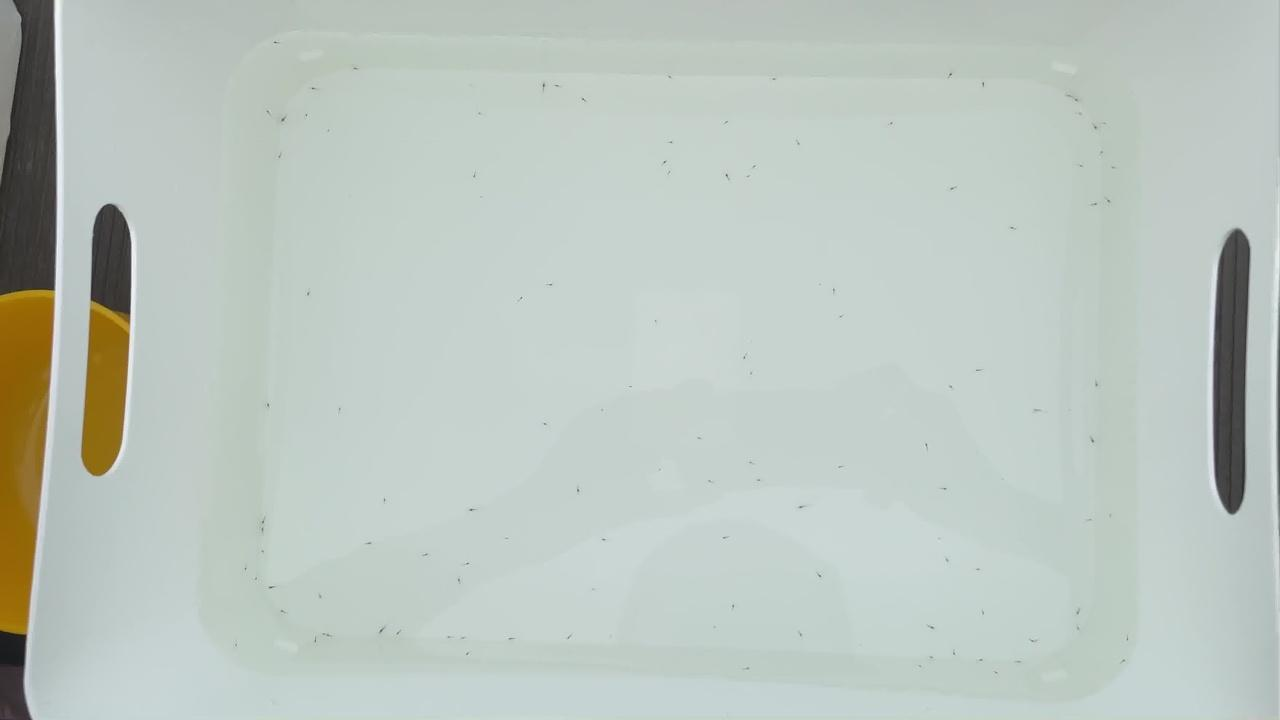shrimp: (269, 39, 281, 47), (261, 107, 273, 115), (279, 117, 291, 125), (274, 152, 286, 160), (300, 111, 312, 119), (324, 130, 336, 138), (308, 84, 320, 92), (350, 65, 362, 73), (476, 109, 488, 117), (470, 175, 482, 183), (538, 81, 550, 89), (550, 82, 562, 90), (578, 97, 590, 105), (664, 74, 676, 82), (768, 77, 780, 85), (792, 139, 804, 147), (749, 163, 761, 171), (744, 175, 756, 183), (720, 172, 732, 180), (718, 120, 730, 128), (666, 140, 678, 148), (661, 159, 673, 167), (665, 172, 677, 180), (547, 281, 559, 289), (515, 296, 527, 304), (301, 291, 313, 299), (649, 319, 661, 327), (747, 372, 759, 380), (738, 355, 750, 363), (837, 314, 849, 322), (827, 287, 839, 295), (1007, 225, 1019, 233), (1090, 203, 1102, 211), (1102, 197, 1114, 205), (1108, 165, 1120, 173), (1097, 147, 1109, 155), (1090, 123, 1102, 131), (1101, 119, 1113, 127), (1075, 165, 1087, 173), (1073, 111, 1085, 119), (1070, 97, 1082, 105), (1062, 92, 1074, 100), (978, 82, 990, 90), (947, 72, 959, 80), (887, 119, 899, 127), (948, 186, 960, 194), (974, 367, 986, 375), (1030, 406, 1042, 414), (1092, 379, 1104, 387), (1088, 436, 1100, 444), (945, 383, 957, 391), (921, 444, 933, 452), (1105, 516, 1117, 524), (1084, 519, 1096, 527), (1072, 609, 1084, 617), (1071, 624, 1083, 632), (1118, 656, 1130, 664), (1125, 636, 1137, 644), (1013, 659, 1025, 667), (1028, 637, 1040, 645), (992, 670, 1004, 678), (975, 657, 987, 665), (977, 608, 989, 616), (972, 564, 984, 572), (943, 558, 955, 566), (939, 485, 951, 493), (925, 625, 937, 633), (949, 651, 961, 659), (925, 655, 937, 663), (915, 665, 927, 673), (794, 631, 806, 639), (814, 572, 826, 580), (794, 504, 806, 512), (836, 463, 848, 471), (753, 478, 765, 486), (747, 459, 759, 467), (694, 435, 706, 443), (706, 477, 718, 485), (720, 534, 732, 542), (730, 603, 742, 611), (740, 667, 752, 675), (711, 623, 723, 631), (565, 633, 577, 641), (599, 535, 611, 543), (589, 588, 601, 596), (574, 487, 586, 495), (540, 421, 552, 429), (625, 383, 637, 391), (652, 466, 664, 474), (466, 507, 478, 515), (502, 537, 514, 545), (465, 560, 477, 568), (453, 579, 465, 587), (504, 637, 516, 645), (460, 651, 472, 659), (456, 636, 468, 644), (447, 634, 459, 642), (393, 628, 405, 636), (375, 627, 387, 635), (422, 551, 434, 559), (379, 495, 391, 503), (364, 539, 376, 547), (335, 406, 347, 414), (261, 403, 273, 411), (258, 518, 270, 526), (256, 528, 268, 536), (260, 546, 272, 554), (239, 567, 251, 575), (251, 578, 263, 586), (264, 582, 276, 590), (278, 610, 290, 618), (314, 594, 326, 602), (324, 633, 336, 641), (320, 630, 332, 638), (310, 637, 322, 645), (230, 641, 242, 649)
